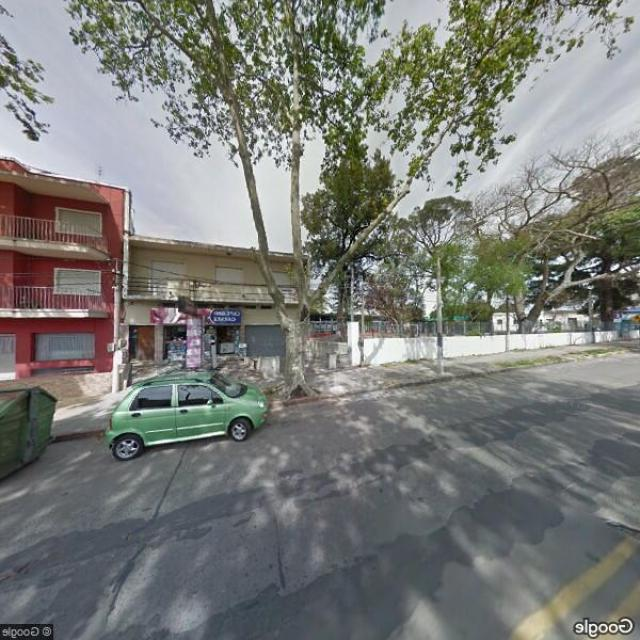garbage container: (0, 378, 65, 497)
